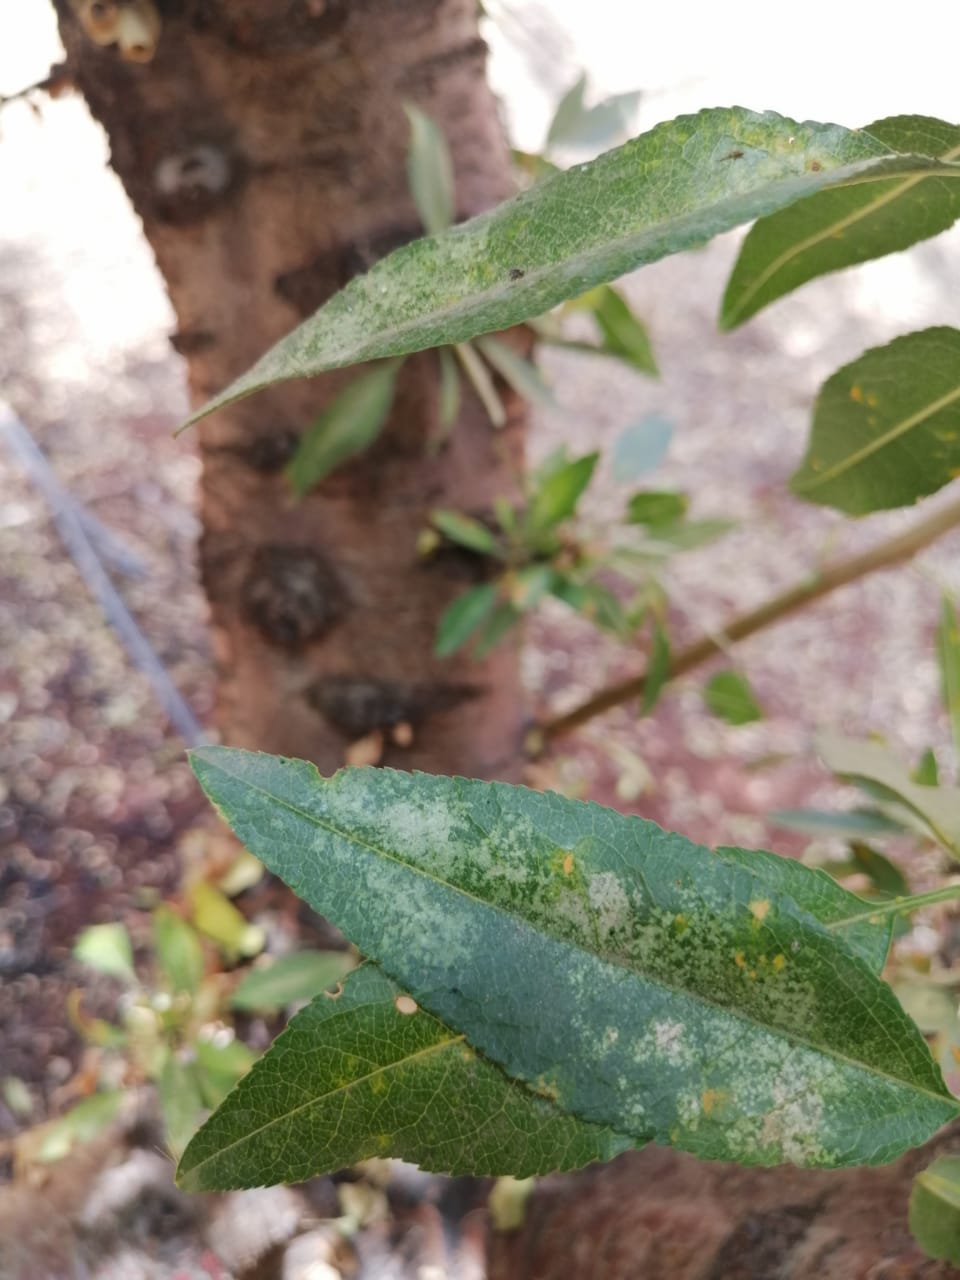faux tigre: (188, 748, 960, 1168), (171, 107, 917, 442)
